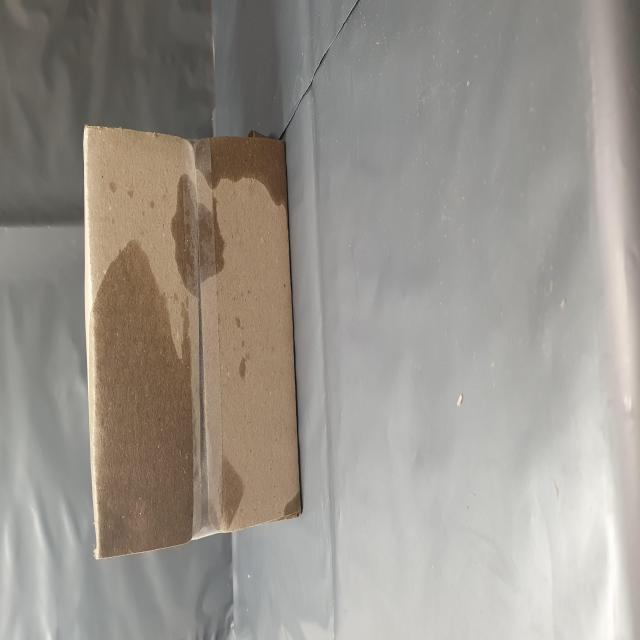wet: (50, 161, 285, 517)
